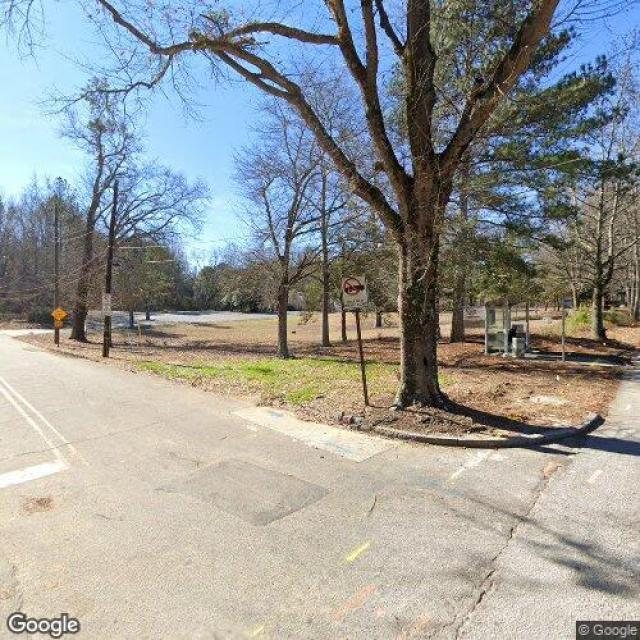shelter: (481, 293, 534, 357)
trash_can: (510, 337, 528, 358)
